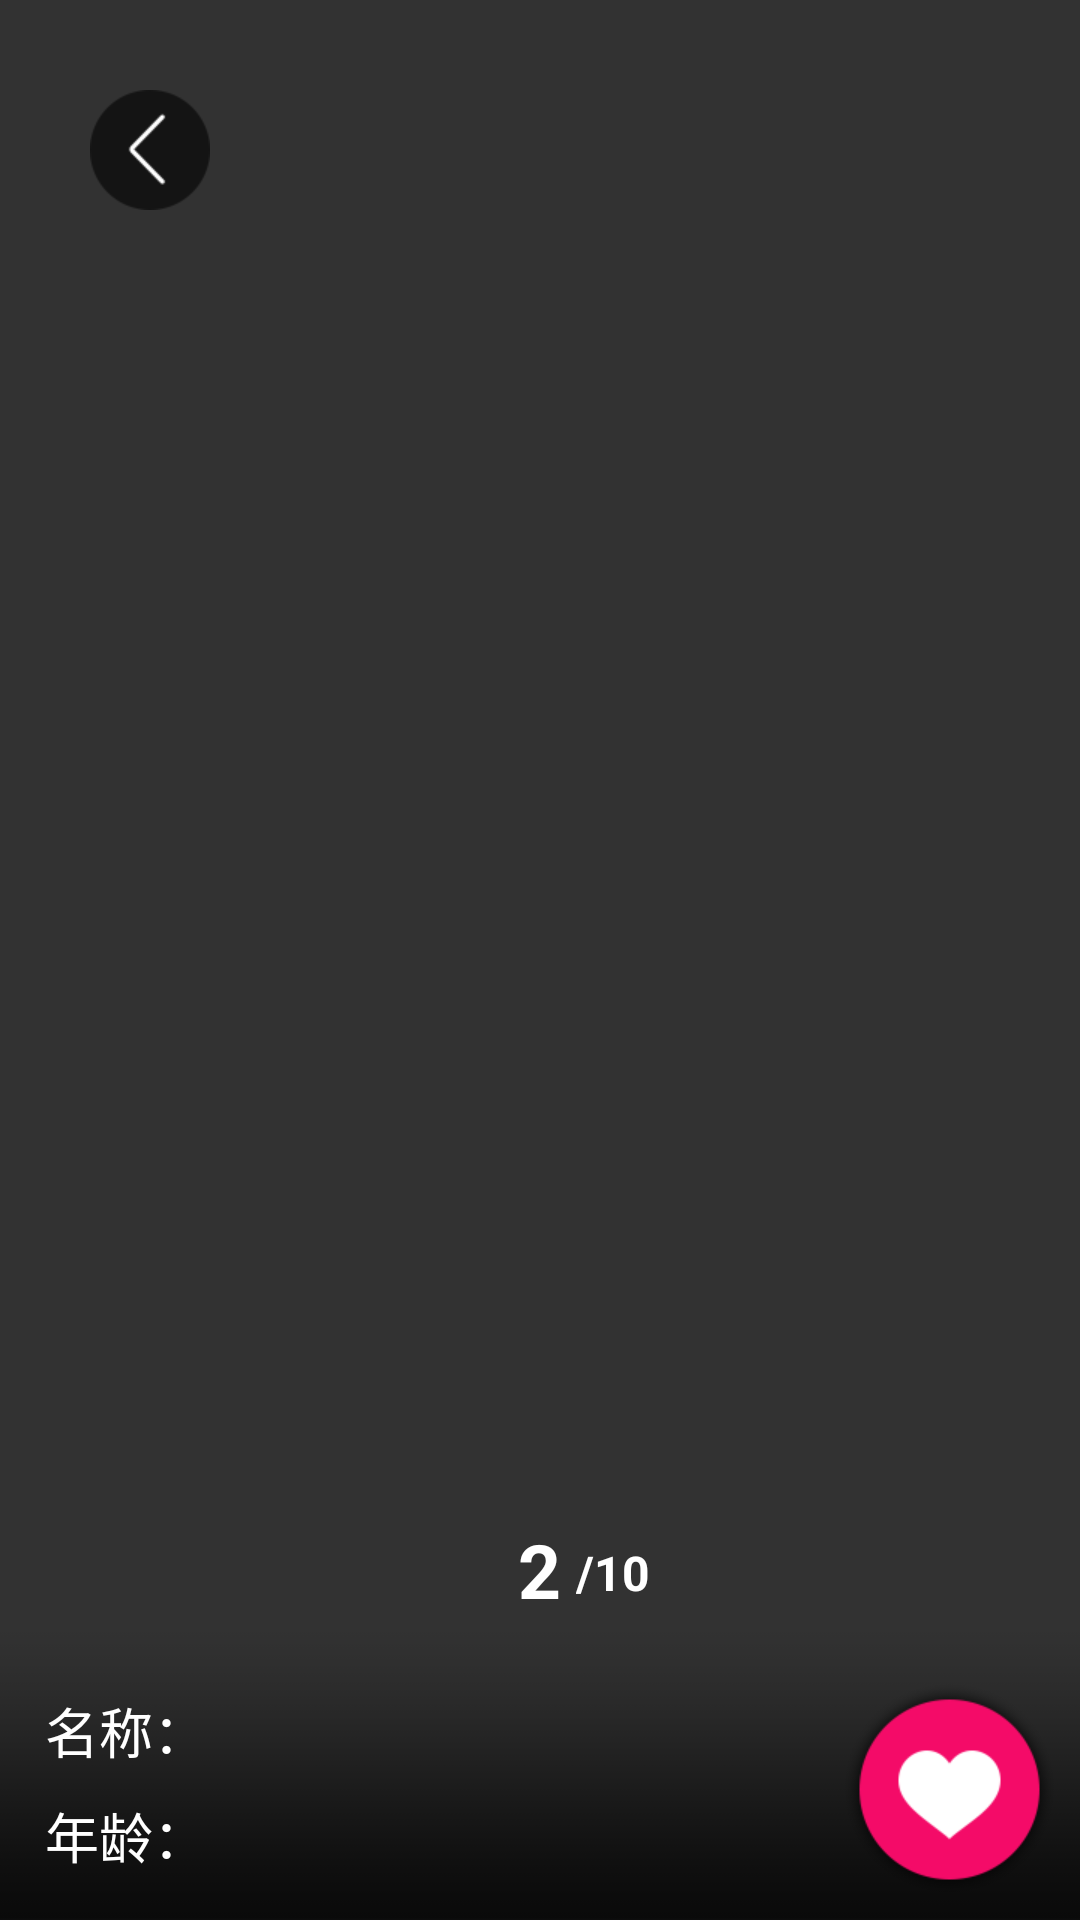

Icons on this 1080 × 1920 Android screen, each with the point to tap as point (x, y):
detail back: point (150, 150)
like click: point (949, 1809)
